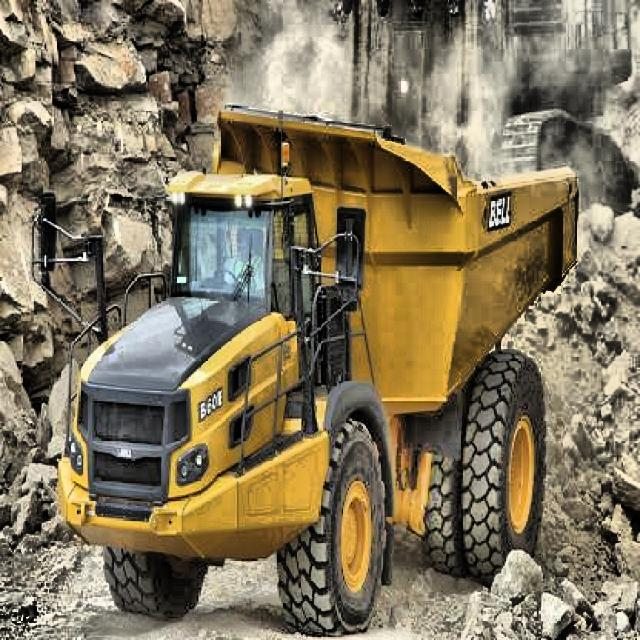dump_truck: (49, 80, 593, 615)
